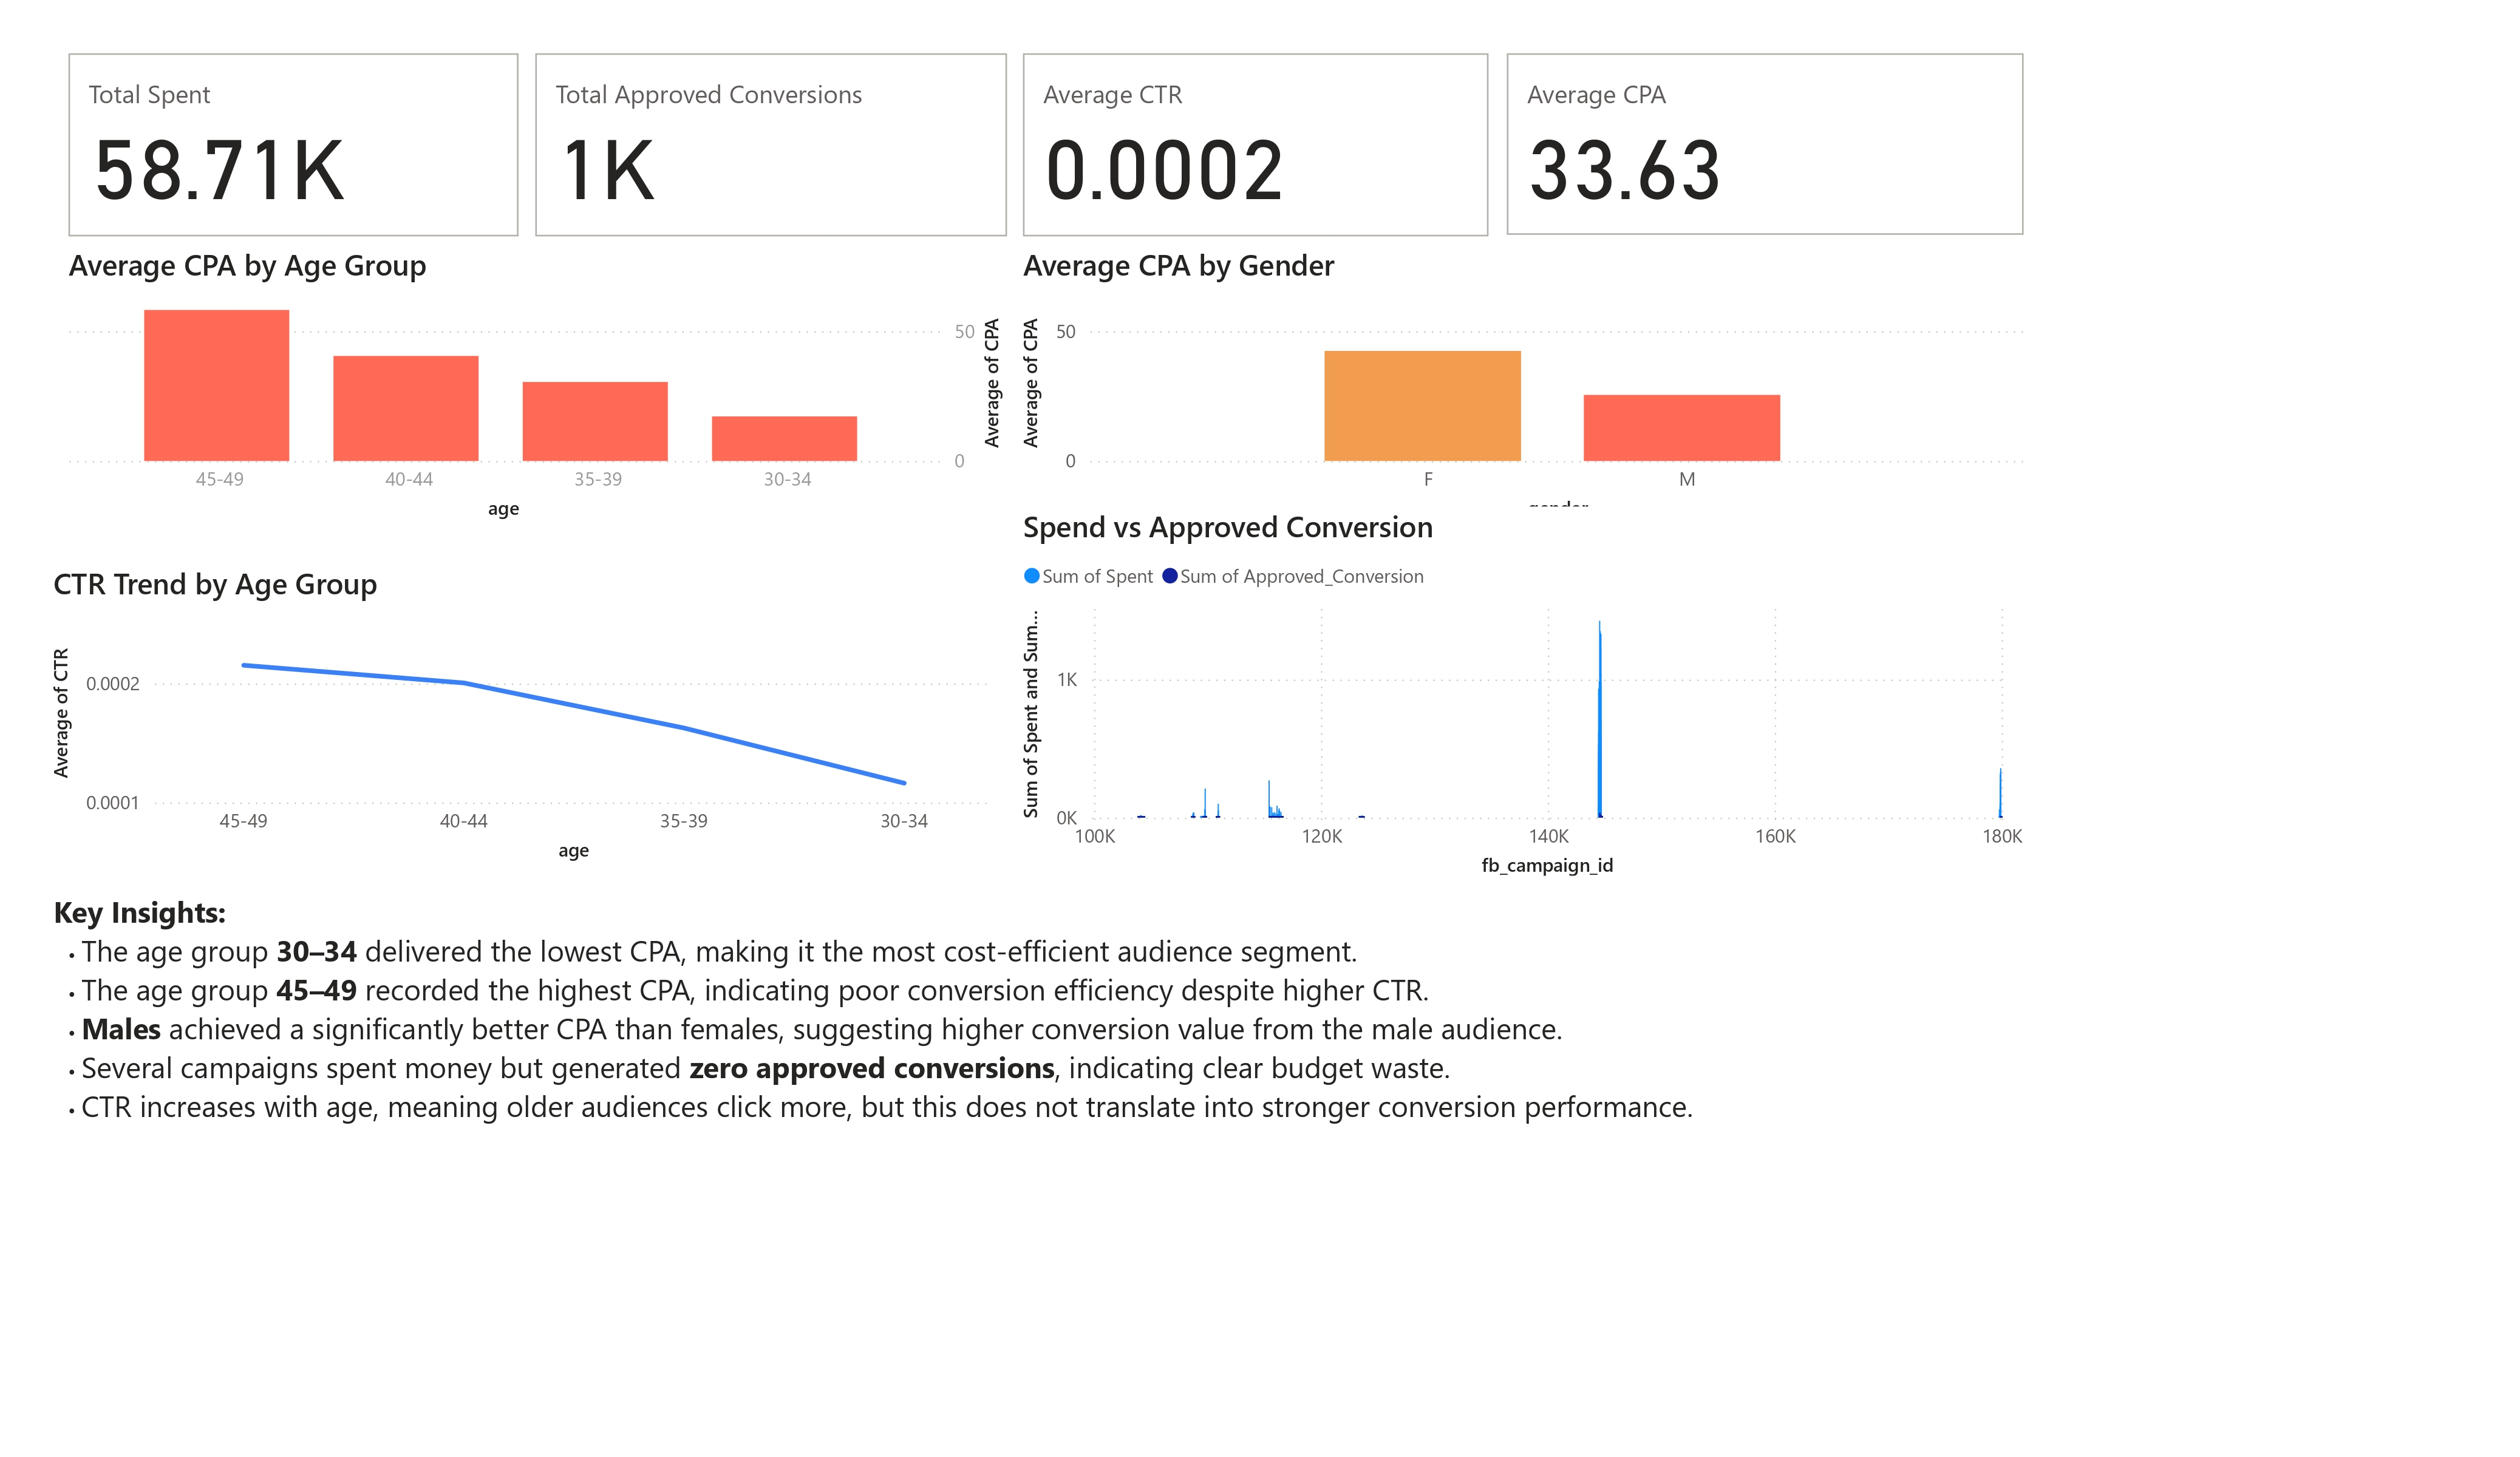

The dashboard page shown, as its layout file describes it:
{"tool":"powerbi","page":{"name":"Page 1","canvas":[1280,720],"ordinal":0},"visuals":[{"type":"cardVisual","fields":{"Data":["Sum(marketing_powerbi_ready.Spent)"]},"box":[9.8,0,300.8,128.4],"z":0},{"type":"cardVisual","fields":{"Data":["Avg(marketing_powerbi_ready.CPA)"]},"box":[936.4,0,343.9,127.8],"z":1000},{"type":"cardVisual","fields":{"Data":["Sum(marketing_powerbi_ready.Approved_Conversion)"]},"box":[310.6,0,314.3,128.4],"z":2000},{"type":"cardVisual","fields":{"Data":["Avg(marketing_powerbi_ready.CTR)"]},"box":[624.9,0,310.6,128.4],"z":3000},{"type":"clusteredColumnChart","title":"Average CPA by Age Group","fields":{"Category":["marketing_powerbi_ready.age"],"Y":["Avg(marketing_powerbi_ready.CPA)"]},"box":[9.8,128.4,615.1,182.2],"z":4000},{"type":"clusteredColumnChart","title":"Average CPA by Gender","fields":{"Category":["marketing_powerbi_ready.gender"],"Y":["Avg(marketing_powerbi_ready.CPA)"]},"box":[624.9,128.4,655.4,182.2],"z":5000},{"type":"lineChart","title":"CTR Trend by Age Group","fields":{"Category":["marketing_powerbi_ready.age"],"Y":["Avg(marketing_powerbi_ready.CTR)"]},"box":[0,333.8,615.1,196.9],"z":6000},{"type":"clusteredColumnChart","title":"Spend vs Approved Conversion","fields":{"Category":["marketing_powerbi_ready.fb_campaign_id"],"Y":["Sum(marketing_powerbi_ready.Spent)","Sum(marketing_powerbi_ready.Approved_Conversion)"]},"box":[624.9,297.1,655.4,243.3],"z":7000},{"type":"textbox","box":[0,540.5,1280.3,179.8],"z":8000}]}

Visuals, with their boxes on the page's 1280x720 design canvas (x1, y1, x2, y2). These are canvas units, not pixel positions in the 2520x1457 screenshot, which may show the page scaled, cropped or inside an application window:
cardVisual - Sum(marketing_powerbi_ready.Spent): bbox=(10, 0, 311, 128)
cardVisual - Avg(marketing_powerbi_ready.CPA): bbox=(936, 0, 1280, 128)
cardVisual - Sum(marketing_powerbi_ready.Approved_Conversion): bbox=(311, 0, 625, 128)
cardVisual - Avg(marketing_powerbi_ready.CTR): bbox=(625, 0, 936, 128)
"Average CPA by Age Group" clusteredColumnChart: bbox=(10, 128, 625, 311)
"Average CPA by Gender" clusteredColumnChart: bbox=(625, 128, 1280, 311)
"CTR Trend by Age Group" lineChart: bbox=(0, 334, 615, 531)
"Spend vs Approved Conversion" clusteredColumnChart: bbox=(625, 297, 1280, 540)
textbox: bbox=(0, 540, 1280, 720)
